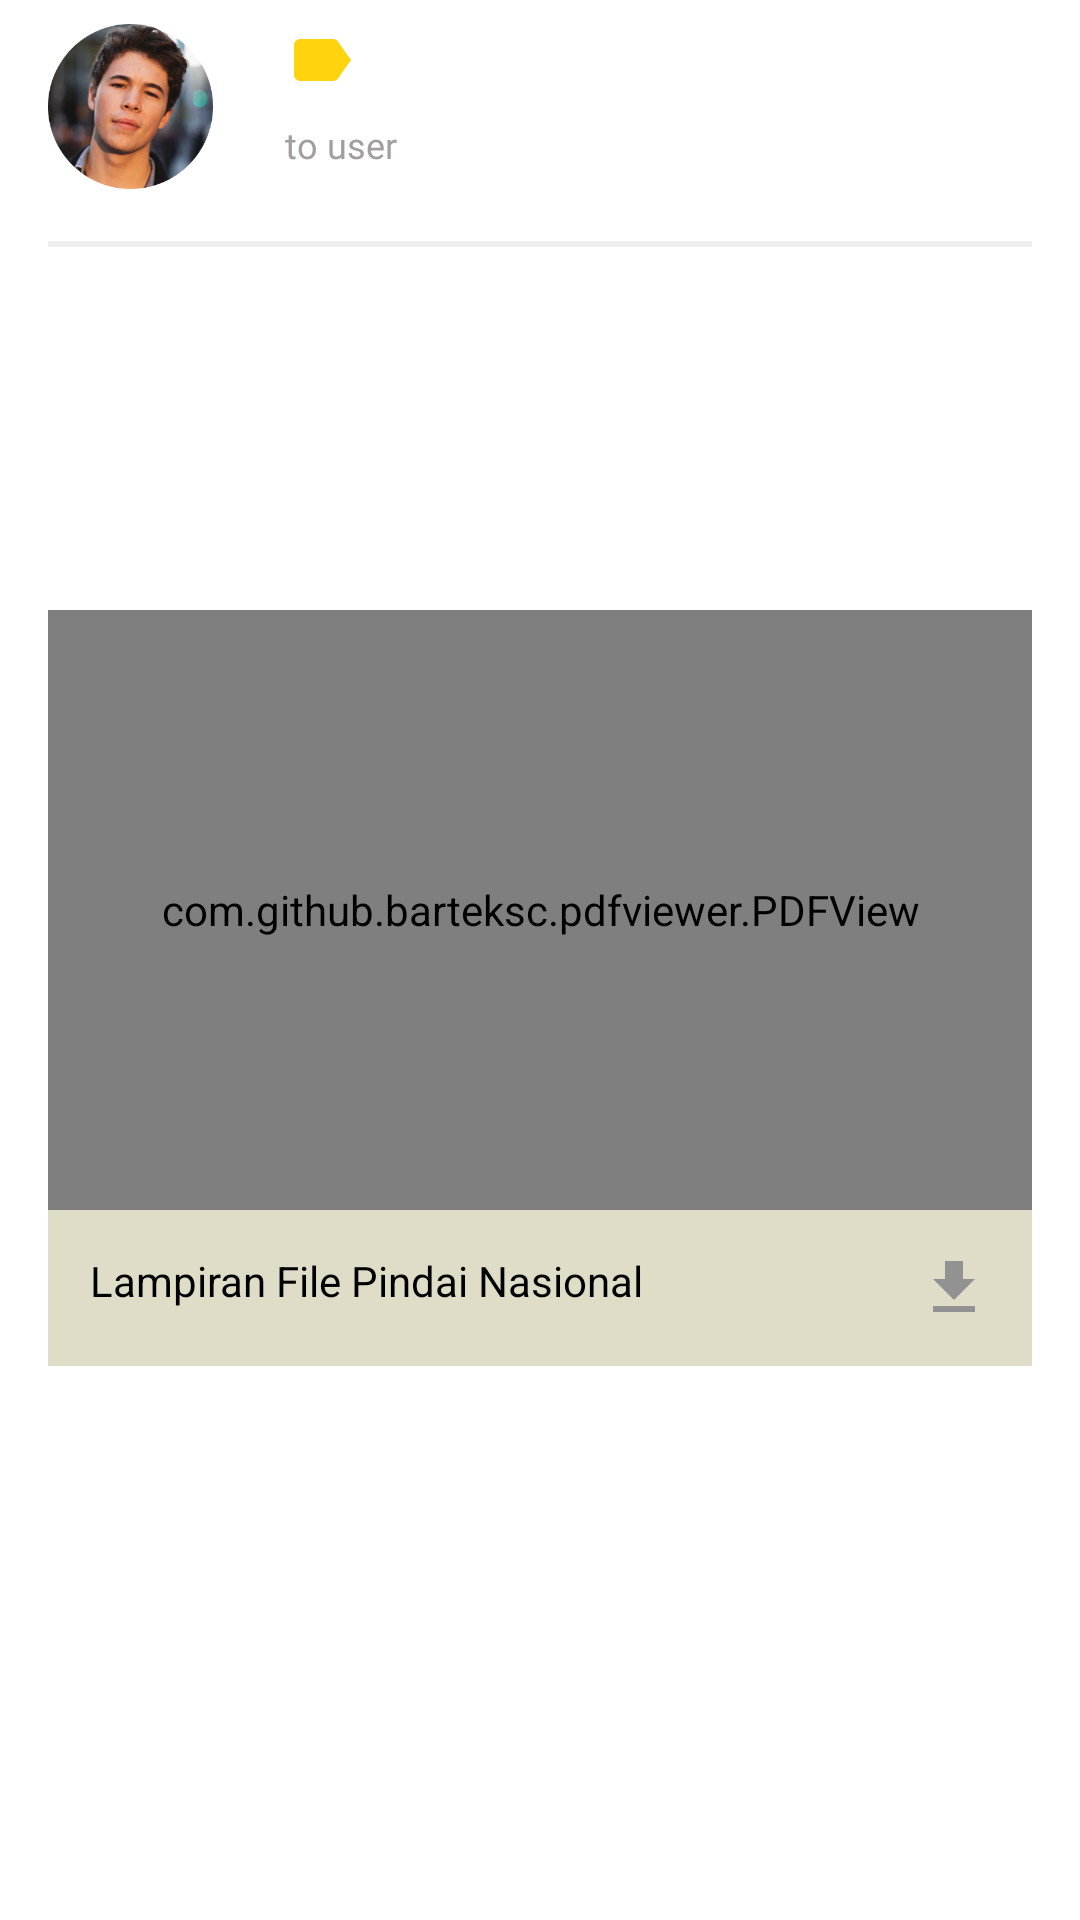

Icons on this 1080×1920 Android screen, each with its box as (x1, y1, x2, y2):
download: (933, 1261, 975, 1312)
foto admin: (48, 24, 213, 189)
